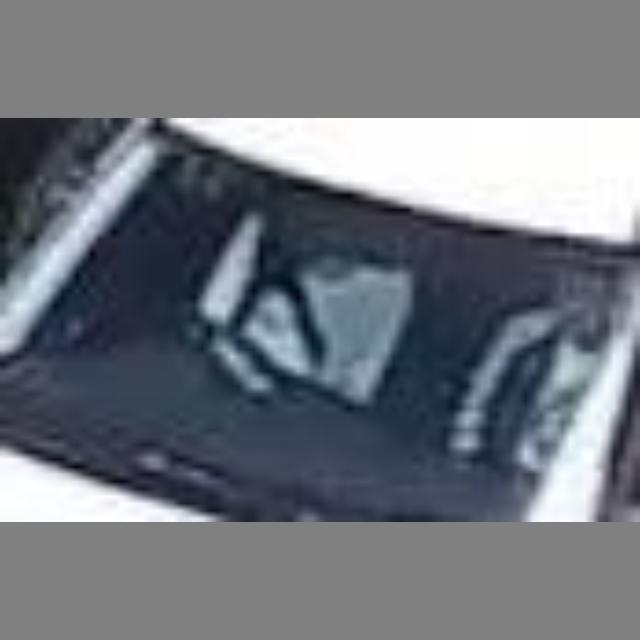pakai: (169, 177, 390, 412)
